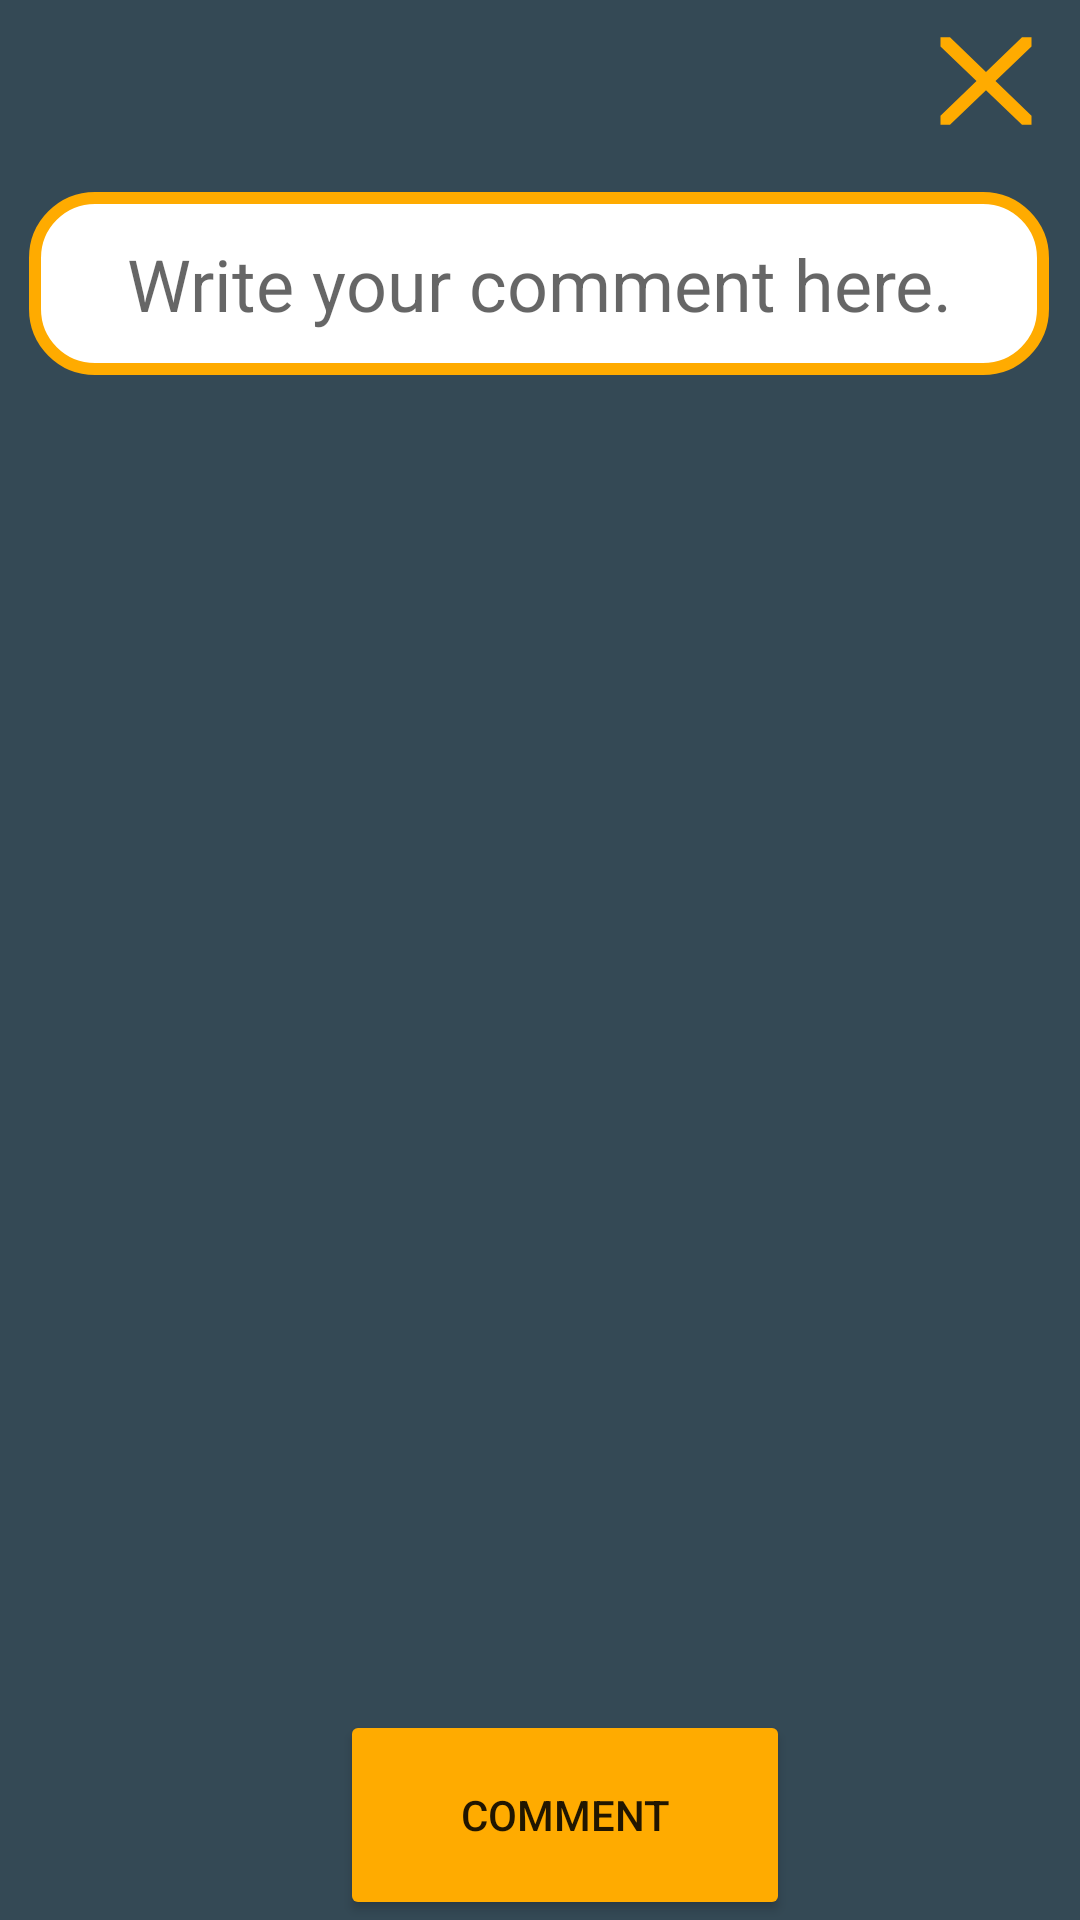

Where icons sit on this 1080*1920 app screen, as bbox=(x1, y1, x2, y2):
window close: bbox=(940, 37, 1032, 125)
